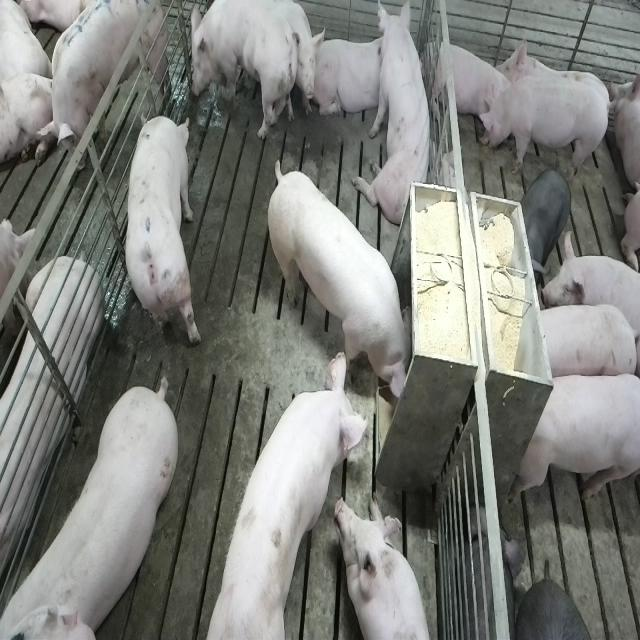Feeding: (271, 160, 421, 408)
Sitting: (356, 4, 436, 228), (190, 1, 310, 144)
Standing: (200, 357, 374, 636), (5, 373, 184, 635), (31, 0, 166, 187), (122, 110, 200, 352), (512, 372, 638, 510), (479, 78, 614, 182), (541, 231, 640, 357), (532, 305, 636, 380), (522, 166, 574, 274)
Sternal_lying: (0, 244, 101, 586), (337, 494, 437, 640), (430, 36, 508, 131), (309, 32, 390, 122)
